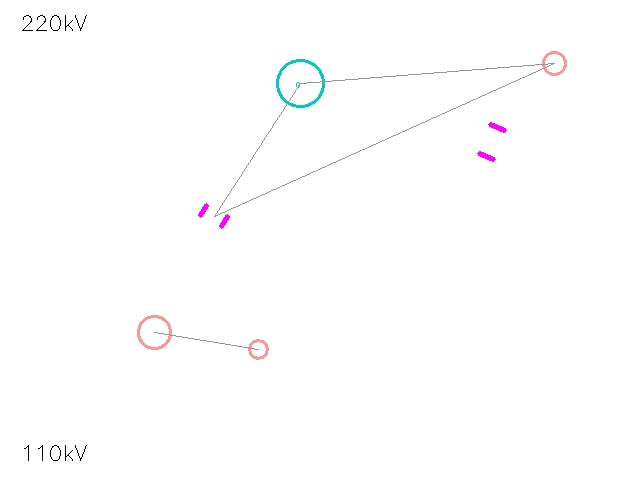capacitor: (466, 116, 518, 168), (194, 196, 234, 236)
current_transformer: (239, 330, 277, 368)
feeder_terminal: (532, 41, 576, 85)
generator: (277, 60, 323, 106)
load_break_switch: (121, 299, 187, 365)
